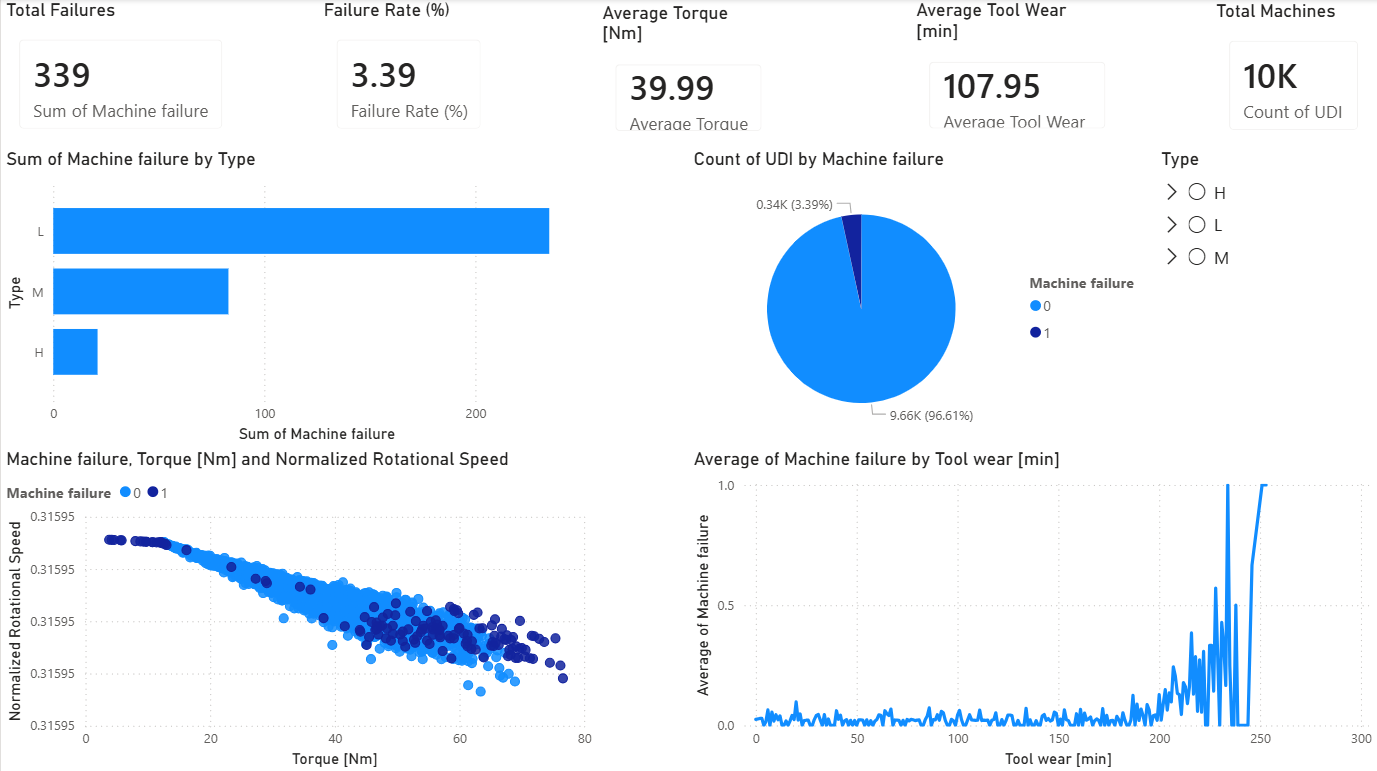

The page's visual inventory and layout, read from the dashboard file:
{"tool":"powerbi","page":{"name":"Page 1","canvas":[1280,720],"ordinal":0},"visuals":[{"type":"cardVisual","title":"Total Failures","fields":{"Data":["Sum(predictive_maintenance_cleaned.Machine failure)"]},"box":[0,0,223.3,138.4],"z":0},{"type":"cardVisual","title":"Total Machines","fields":{"Data":["CountNonNull(predictive_maintenance_cleaned.UDI)"]},"box":[1125.6,1.2,154.7,138.4],"z":1000},{"type":"cardVisual","title":"Failure Rate (%)","fields":{"Data":["predictive_maintenance_cleaned.Failure Rate (%)"]},"box":[295.3,0,168.6,138.4],"z":2000},{"type":"cardVisual","title":"Average Torque [Nm]","fields":{"Data":["predictive_maintenance_cleaned.avg_torque"]},"box":[554.7,2.3,170.9,138.4],"z":3000},{"type":"cardVisual","title":"Average Tool Wear [min]","fields":{"Data":["predictive_maintenance_cleaned.Avg_tool_wear"]},"box":[846.5,0,198.8,138.4],"z":4000},{"type":"clusteredBarChart","fields":{"Category":["predictive_maintenance_cleaned.Type"],"Y":["Sum(predictive_maintenance_cleaned.Machine failure)"]},"box":[0,138.4,554.7,279.1],"z":5000},{"type":"scatterChart","fields":{"X":["predictive_maintenance_cleaned.Torque [Nm]"],"Y":["predictive_maintenance_cleaned.rpm_boxcox"],"Series":["predictive_maintenance_cleaned.Machine failure"]},"box":[0,417.4,554.7,302.3],"z":6000},{"type":"pieChart","fields":{"Y":["CountNonNull(predictive_maintenance_cleaned.UDI)"],"Category":["predictive_maintenance_cleaned.Machine failure"]},"box":[639.5,138.4,434.9,279.1],"z":7000},{"type":"lineChart","fields":{"Y":["Avg(predictive_maintenance_cleaned.Machine failure)"],"Category":["predictive_maintenance_cleaned.Tool wear [min]"]},"box":[639.5,417.4,640.7,302.3],"z":8000},{"type":"listSlicer","fields":{"Values":["predictive_maintenance_cleaned.Type","predictive_maintenance_cleaned.Machine failure","predictive_maintenance_cleaned.Torque [Nm]"]},"box":[1074.4,138.4,205.8,279.1],"z":9000}]}

Visuals, with their boxes in screenshot pixels (x1, y1, x2, y2), scaled from the page's 1280x720 canvas onto the 1377x771 screenshot:
"Total Failures" cardVisual: 0/0/240/148
"Total Machines" cardVisual: 1211/1/1376/149
"Failure Rate (%)" cardVisual: 318/0/499/148
"Average Torque [Nm]" cardVisual: 597/2/781/151
"Average Tool Wear [min]" cardVisual: 911/0/1125/148
clusteredBarChart - predictive_maintenance_cleaned.Type x Sum(predictive_maintenance_cleaned.Machine failure): 0/148/597/447
scatterChart - predictive_maintenance_cleaned.Torque [Nm] x predictive_maintenance_cleaned.rpm_boxcox: 0/447/597/770
pieChart - CountNonNull(predictive_maintenance_cleaned.UDI) x predictive_maintenance_cleaned.Machine failure: 688/148/1156/447
lineChart - Avg(predictive_maintenance_cleaned.Machine failure) x predictive_maintenance_cleaned.Tool wear [min]: 688/447/1376/770
listSlicer - predictive_maintenance_cleaned.Type x predictive_maintenance_cleaned.Machine failure: 1156/148/1376/447
